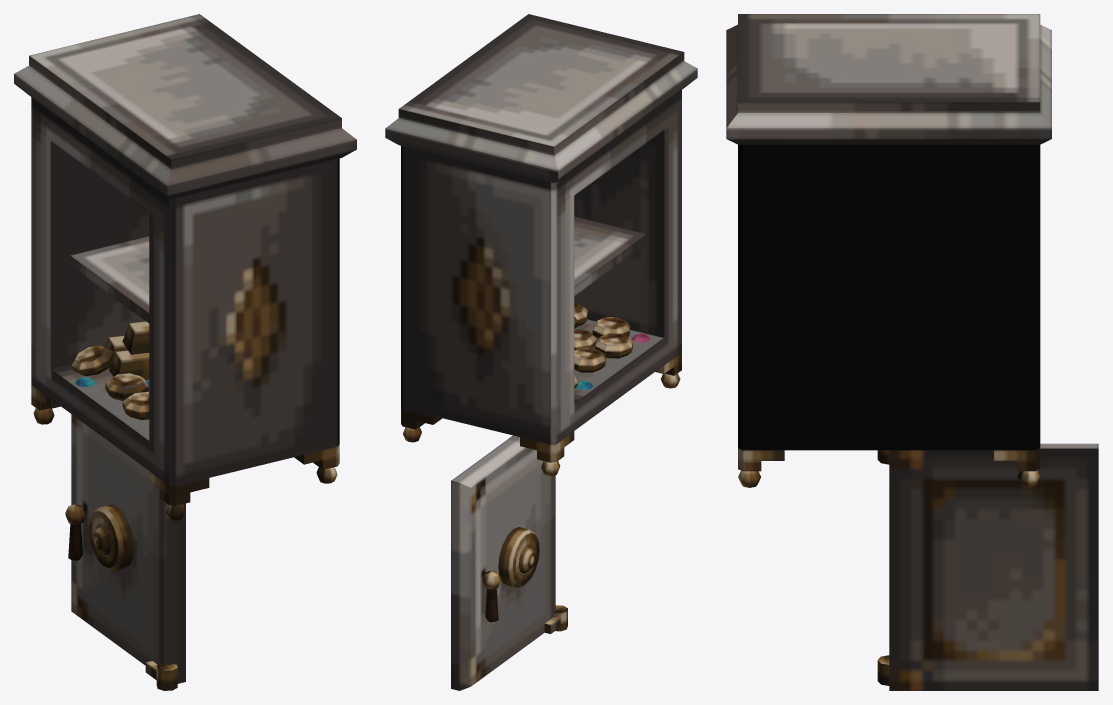
The model's file is EnvObjMD_Safe_A.FBX.
The picture shows the model from 3 angles, left to right: view 1: azimuth 30°, elevation 25°; view 2: azimuth 150°, elevation 25°; view 3: azimuth 270°, elevation 25°; orthographic projection. The views are drawn at different scales.
Visible parts, largest first — view 1: EnvObjMD_Safe_A, EnvObjMD_Safe_A_Door; view 2: EnvObjMD_Safe_A, EnvObjMD_Safe_A_Door; view 3: EnvObjMD_Safe_A, EnvObjMD_Safe_A_Door.
Part boxes in pixels (x1,y1,x2,y2): EnvObjMD_Safe_A: (14,14,356,520); EnvObjMD_Safe_A_Door: (65,414,185,690); EnvObjMD_Safe_A: (385,14,697,475); EnvObjMD_Safe_A_Door: (451,435,567,690); EnvObjMD_Safe_A: (726,14,1051,487); EnvObjMD_Safe_A_Door: (877,443,1098,690).
Bounding box in the file's own units: 100 × 300 × 160.
